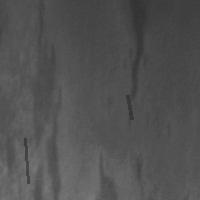inclusion: (3, 1, 63, 198), (123, 1, 150, 102), (92, 150, 120, 198), (131, 152, 153, 198), (23, 136, 30, 185), (125, 93, 133, 121)
